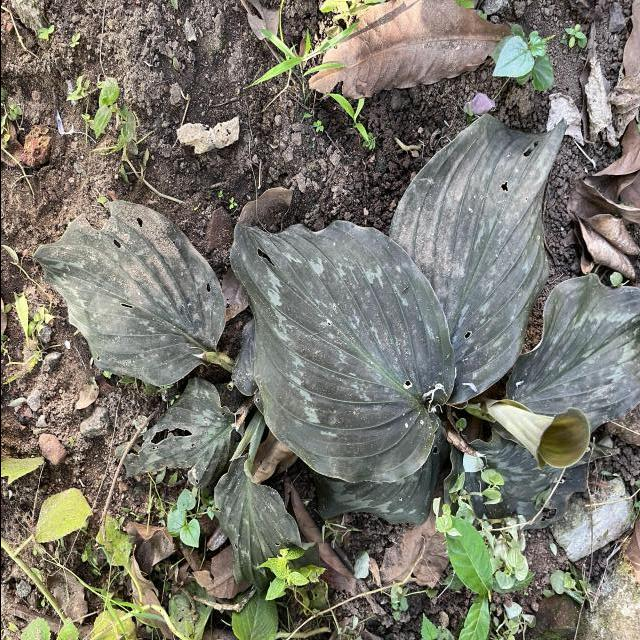Kaempferia galanga linn: (225, 216, 458, 486), (386, 110, 570, 407), (29, 198, 228, 388), (502, 271, 640, 437)
